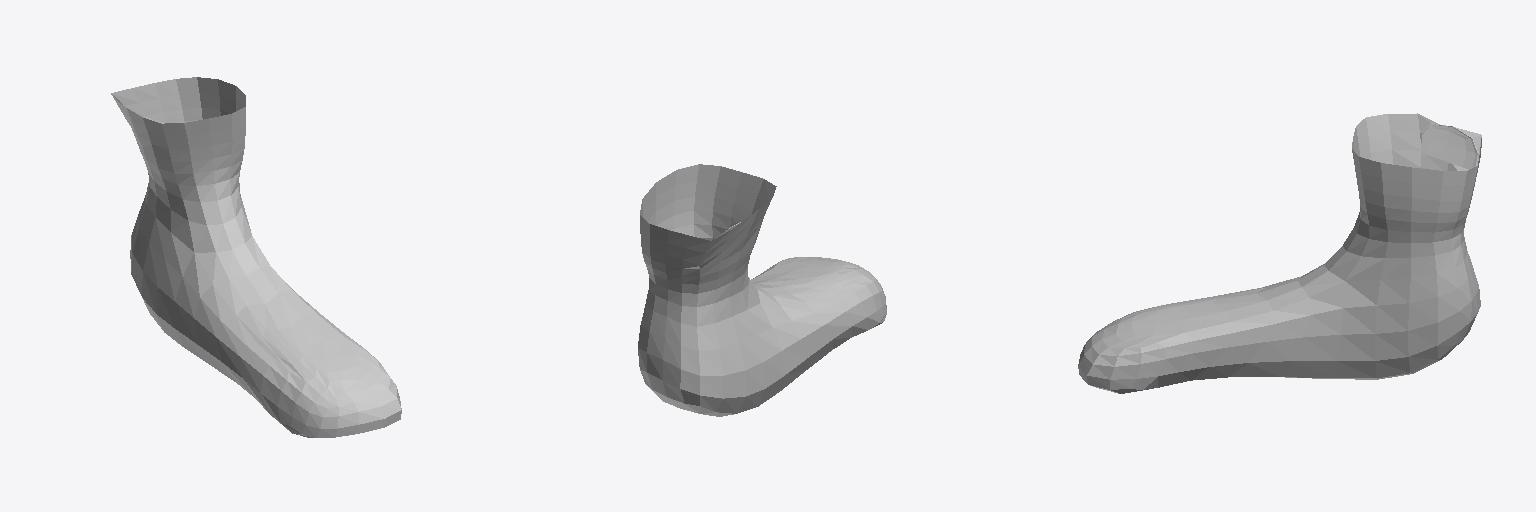
File: right_foot_1.0.obj
The picture shows the model from 3 angles: view 1: azimuth 30°, elevation 25°; view 2: azimuth 150°, elevation 25°; view 3: azimuth 270°, elevation 25°; orthographic projection.
Visible parts, largest first — view 1: Cube; view 2: Cube; view 3: Cube.
Boxes of the visible parts, box(x1,y1,x2,y2) form: Cube: box(111, 77, 401, 437); Cube: box(638, 164, 886, 416); Cube: box(1078, 113, 1481, 393).
Bounding box in the file's own units: 2.04 × 3.65 × 5.88.